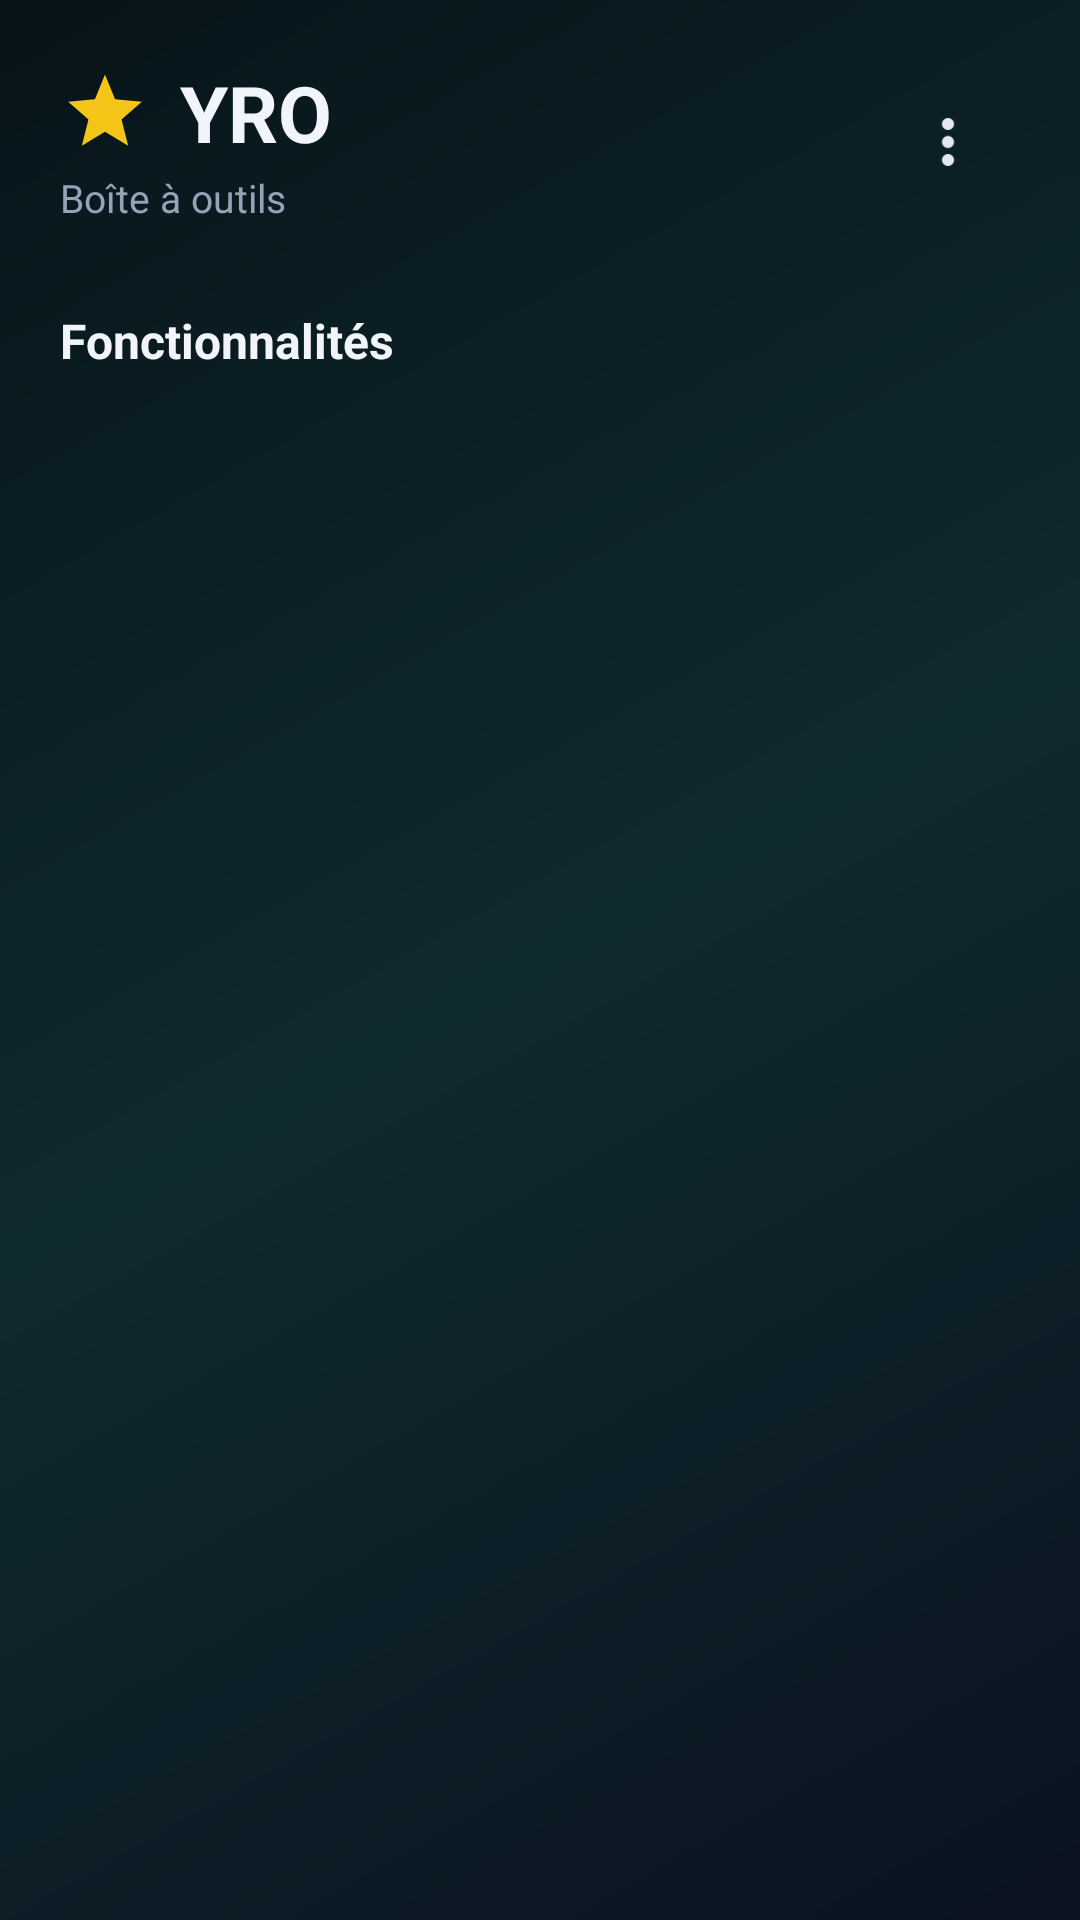

Locate icon controls on the screen. Image size 1080px x 1920px, boxes as {"x1": x1, "y1": y1, "x2": x2, "y2": y2}.
Menu des fonctionnalités: {"x1": 941, "y1": 118, "x2": 955, "y2": 166}
